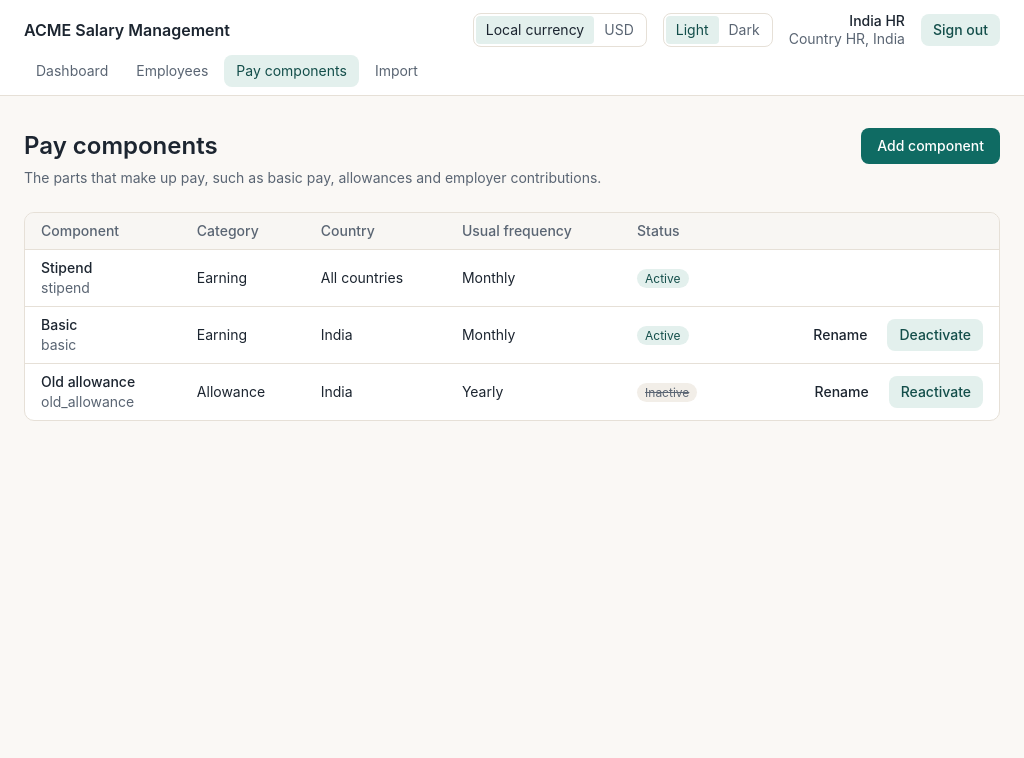
PayComponentsPage › limits country HR users to their own country's components
The image size is (1024, 758).
expect the 1st button "Rename" is shown: met, box [801,319,879,351]
Click the button "Add component": (931, 146) [861,128,1000,164]
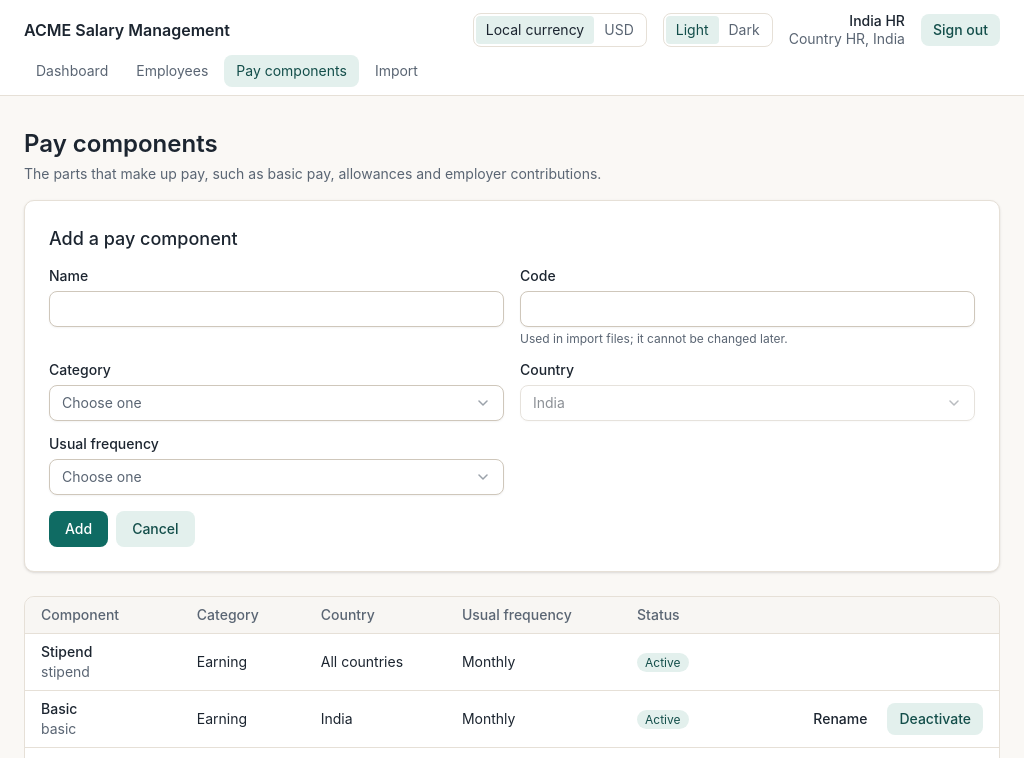
expect the dropdown named "Country" is disabled: met, box [520,385,975,421]
expect the dropdown named "Country" reads "India": met, box [520,385,975,421]
